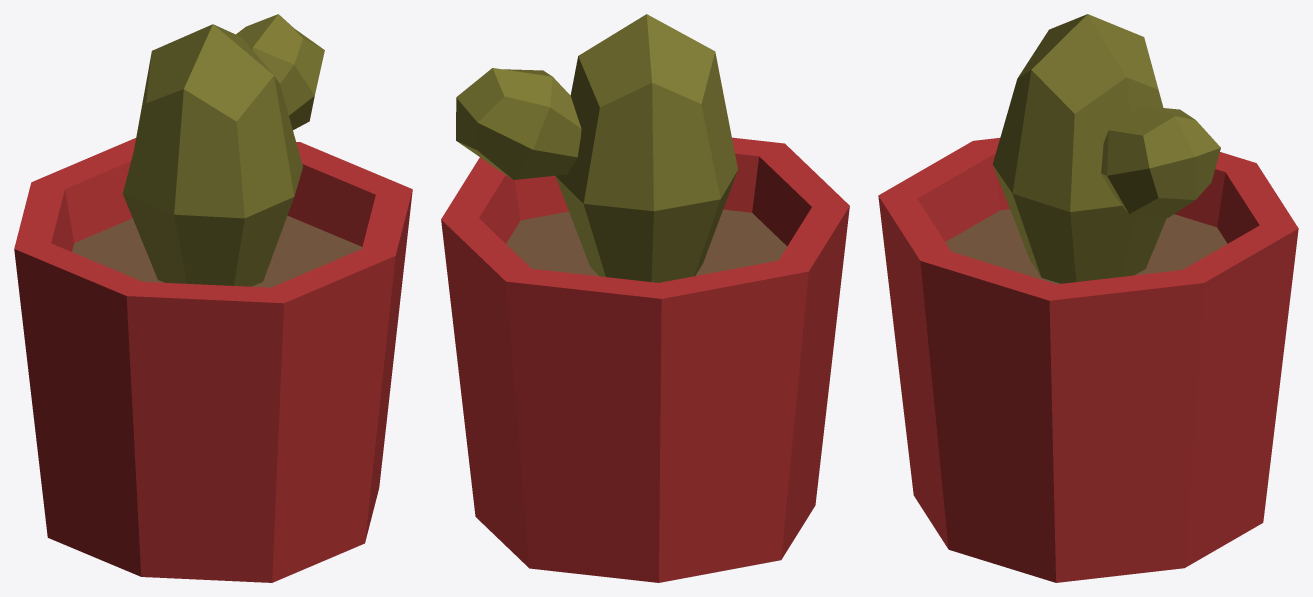
File: Cactus_2.fbx
The picture shows the model from 3 angles, left to right: view 1: azimuth 30°, elevation 25°; view 2: azimuth 150°, elevation 25°; view 3: azimuth 270°, elevation 25°; orthographic projection.
Parts seen in each view (by area): view 1: Cactus_2; view 2: Cactus_2; view 3: Cactus_2.
Part boxes in pixels (x1=…): Cactus_2: x1=14, y1=14, x2=412, y2=582; Cactus_2: x1=441, y1=14, x2=849, y2=582; Cactus_2: x1=878, y1=14, x2=1298, y2=582.
Bounding box in the file's own units: 13.22 × 13.22 × 17.17.
